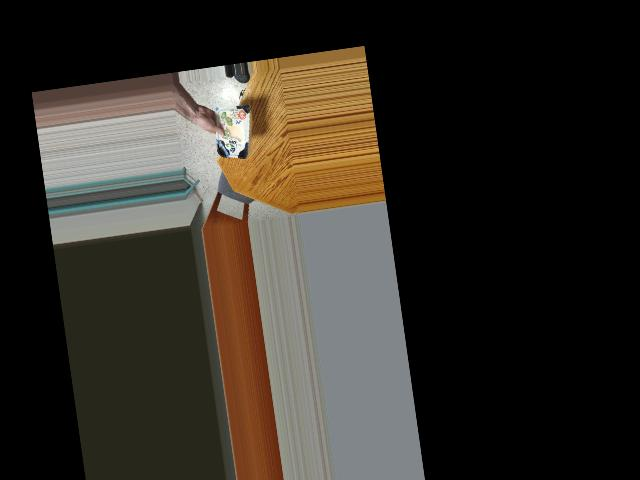cheese: (205, 110, 254, 159)
